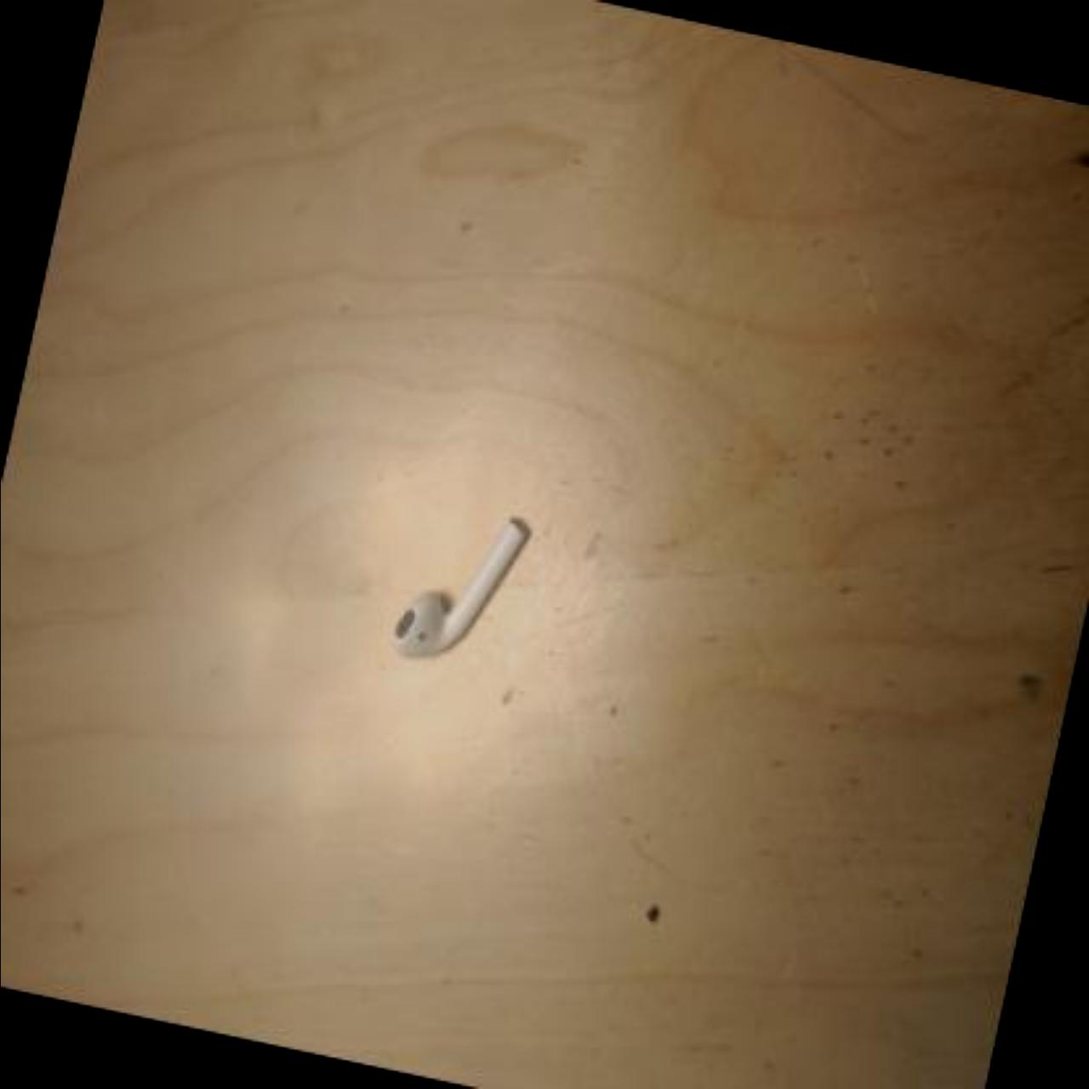Airpods_Units: (385, 484, 537, 682)
